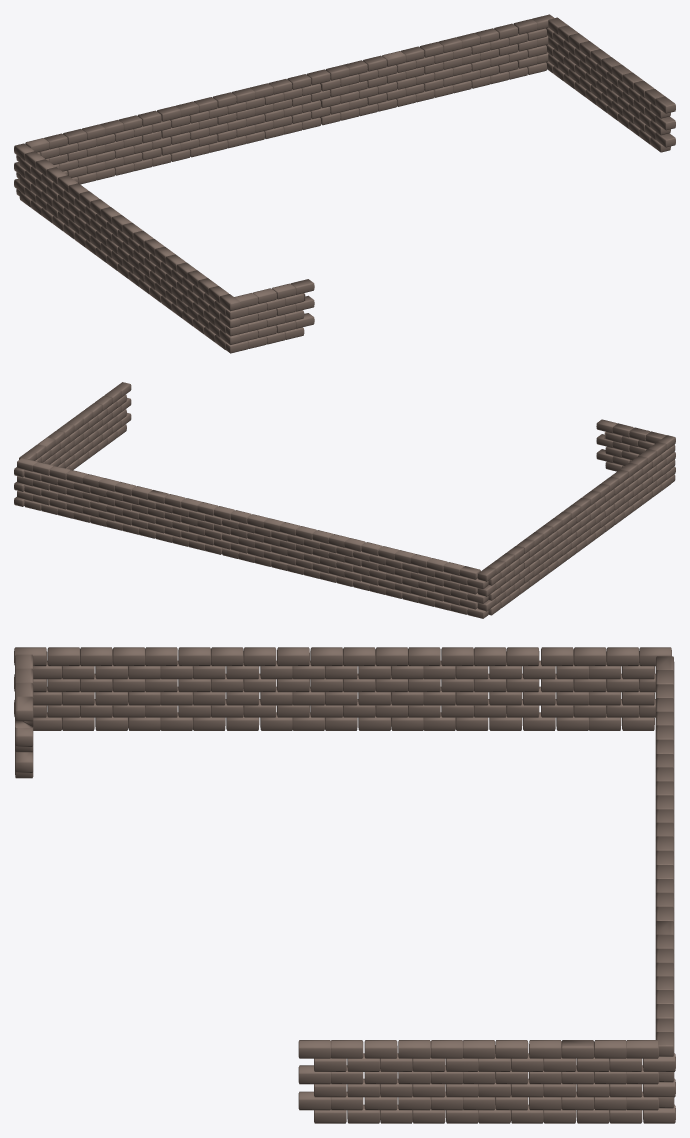
Rendered from M_Pared ladrillos arriba.fbx.
The picture shows the model from 3 angles, top to bottom: view 1: azimuth 30°, elevation 25°; view 2: azimuth 150°, elevation 25°; view 3: azimuth 270°, elevation 25°; orthographic projection. The views are drawn at different scales.
Parts seen in each view (by area): view 1: WallWood1_pCube9; view 2: WallWood1_pCube9; view 3: WallWood1_pCube9.
Boxes of the visible parts, x1,y1,x2,y2 form: WallWood1_pCube9: (14, 14, 675, 353); WallWood1_pCube9: (14, 382, 675, 618); WallWood1_pCube9: (14, 647, 675, 1123).
Size of the model in its own units: 160 by 14.23 by 112.
